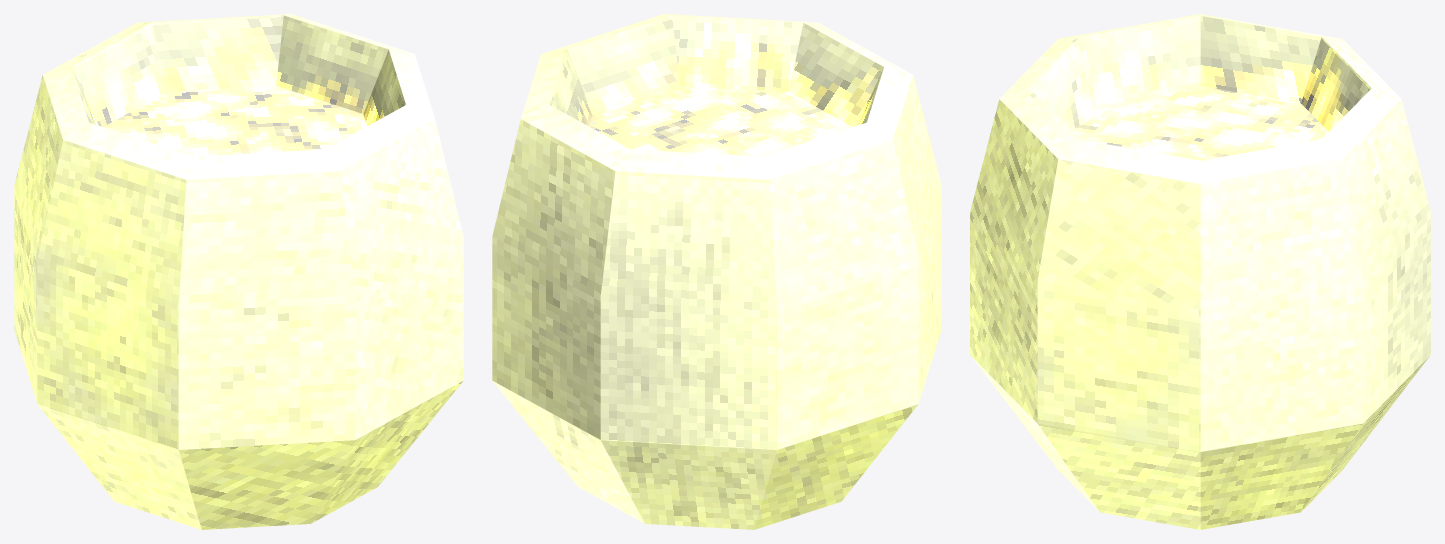
The model's file is Basket_Var1.glb.
3 renders of one model, left to right at view 1: azimuth 30°, elevation 25°; view 2: azimuth 150°, elevation 25°; view 3: azimuth 270°, elevation 25°, orthographic.
Parts seen in each view (by area): view 1: Basket_Variant_1; view 2: Basket_Variant_1; view 3: Basket_Variant_1.
Part boxes in pixels (x1,y1,x2,y2): Basket_Variant_1: [14, 14, 463, 529]; Basket_Variant_1: [492, 14, 941, 529]; Basket_Variant_1: [970, 14, 1430, 529].
Bounding box in the file's own units: 1.9 × 1.74 × 1.9.
